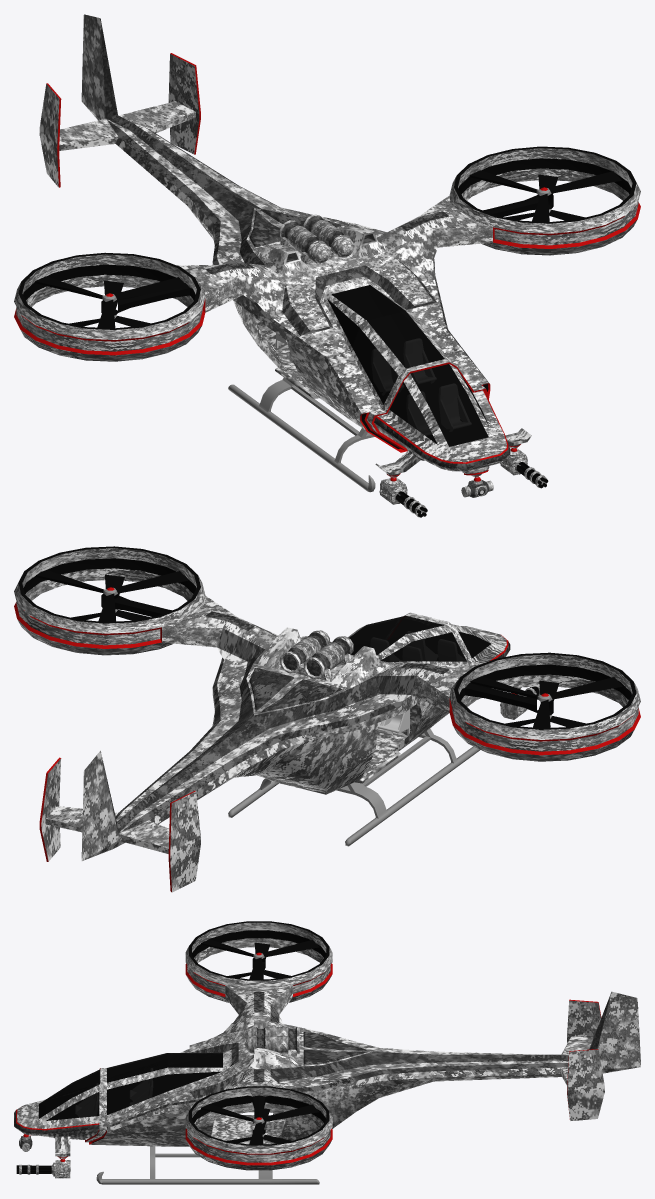
Rendered from VTOL.fbx.
The picture shows the model from 3 angles, top to bottom: view 1: azimuth 30°, elevation 25°; view 2: azimuth 150°, elevation 25°; view 3: azimuth 270°, elevation 25°; orthographic projection. The views are drawn at different scales.
Parts seen in each view (by area): view 1: Hull, Engine (×2), Rotors (×2), Feet; view 2: Hull, Engine (×2), Rotors (×2), Feet, Rotors02 (×2), Seats; view 3: Hull, Engine (×2), Rotors (×2), Feet.
Part boxes in pixels (x1,y1,x2,y2): Hull: (39,14,531,481); Engine (×2): (14,146,640,361); Rotors (×2): (35,170,621,328); Feet: (228,377,375,492); Hull: (39,612,521,892); Engine (×2): (14,546,640,761); Rotors (×2): (36,570,622,728); Feet: (228,728,480,846); Rotors02 (×2): (71,574,585,726); Seats: (377,709,409,737); Hull: (14,991,640,1161); Engine (×2): (185,921,332,1170); Rotors (×2): (201,939,319,1144); Feet: (96,1146,319,1184).
Size of the model in its own units: 589 by 206 by 687.
9 materials, 2 textured.
